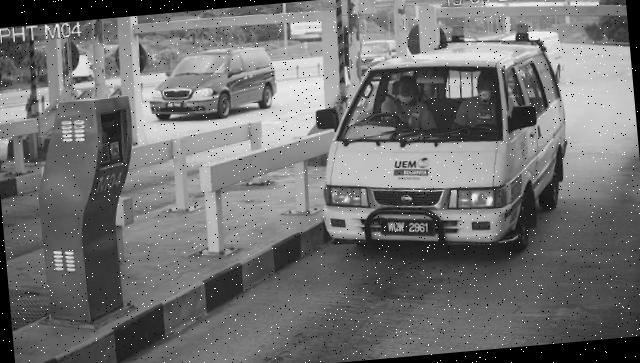License_Plate: (380, 214, 438, 244)
van: (310, 39, 576, 271)
